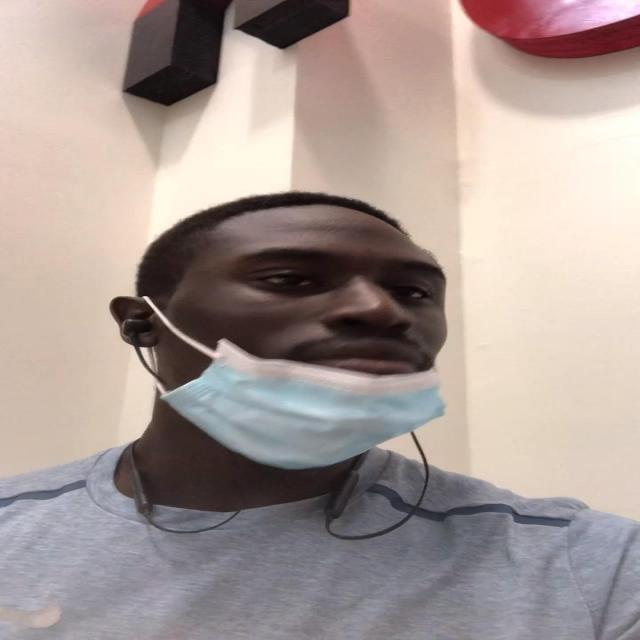face: (140, 223, 450, 467)
